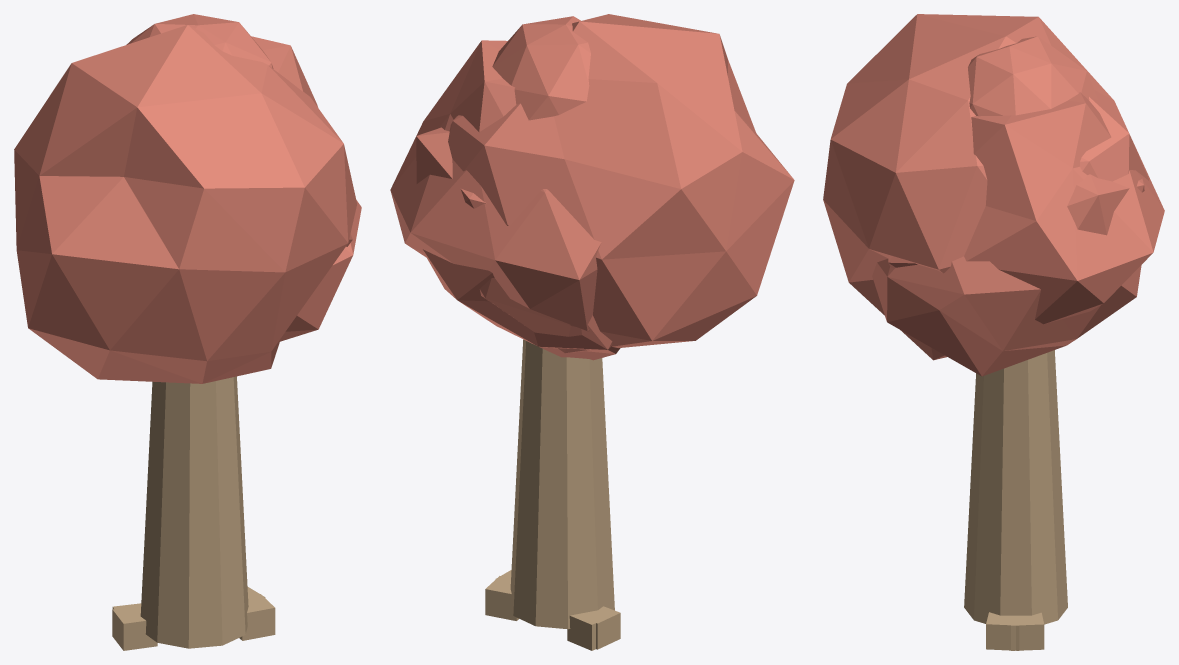
Rendered from chibi_tree_red.glb.
3 views of the same model, side by side, from view 1: azimuth 30°, elevation 25°; view 2: azimuth 150°, elevation 25°; view 3: azimuth 270°, elevation 25° (orthographic). The views are drawn at different scales.
Visible parts, largest first — view 1: ChibiTree_red_7; view 2: ChibiTree_red_7; view 3: ChibiTree_red_7.
Boxes of the visible parts, x1=… form: ChibiTree_red_7: x1=14, y1=14, x2=361, y2=650; ChibiTree_red_7: x1=390, y1=14, x2=794, y2=650; ChibiTree_red_7: x1=823, y1=14, x2=1164, y2=650.
Bounding box in the file's own units: 1.96 × 3.43 × 1.84.
